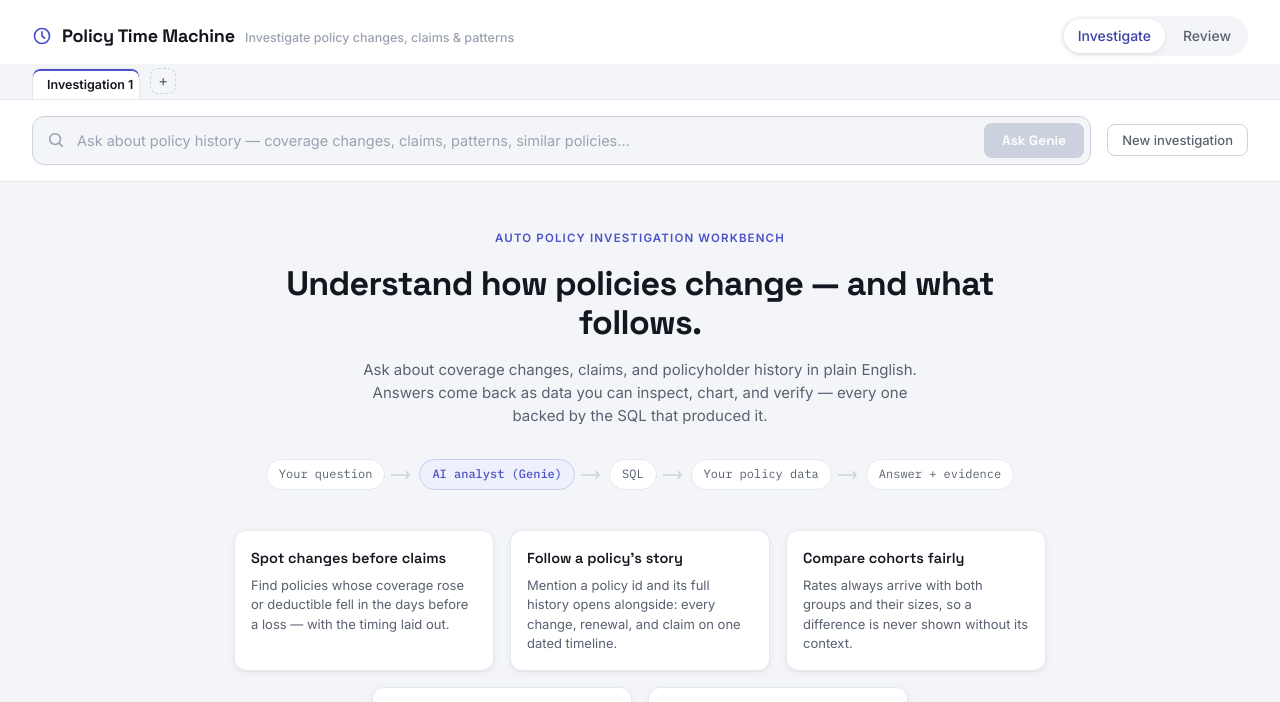
Test case: App smoke test (mock mode) › P-18492 fixture renders as grouped endorsement cards, a distinct claim card, and a severity badge
Replace the text in the field labelled "Ask about policy history" with "What changed on P-18492 in the last year?": (524, 140) 73,124 -> 976,157
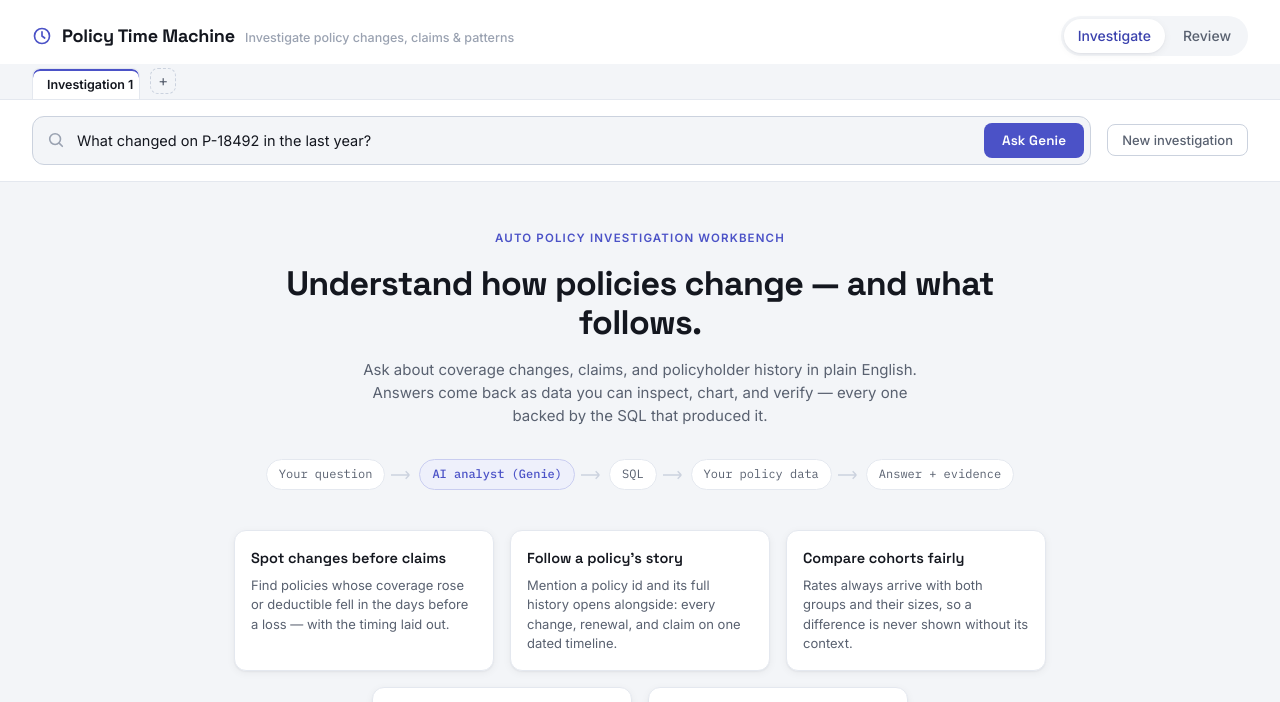
Submit the form named "Ask about policy history", box 32,116 -> 1091,165
(page scrolled)
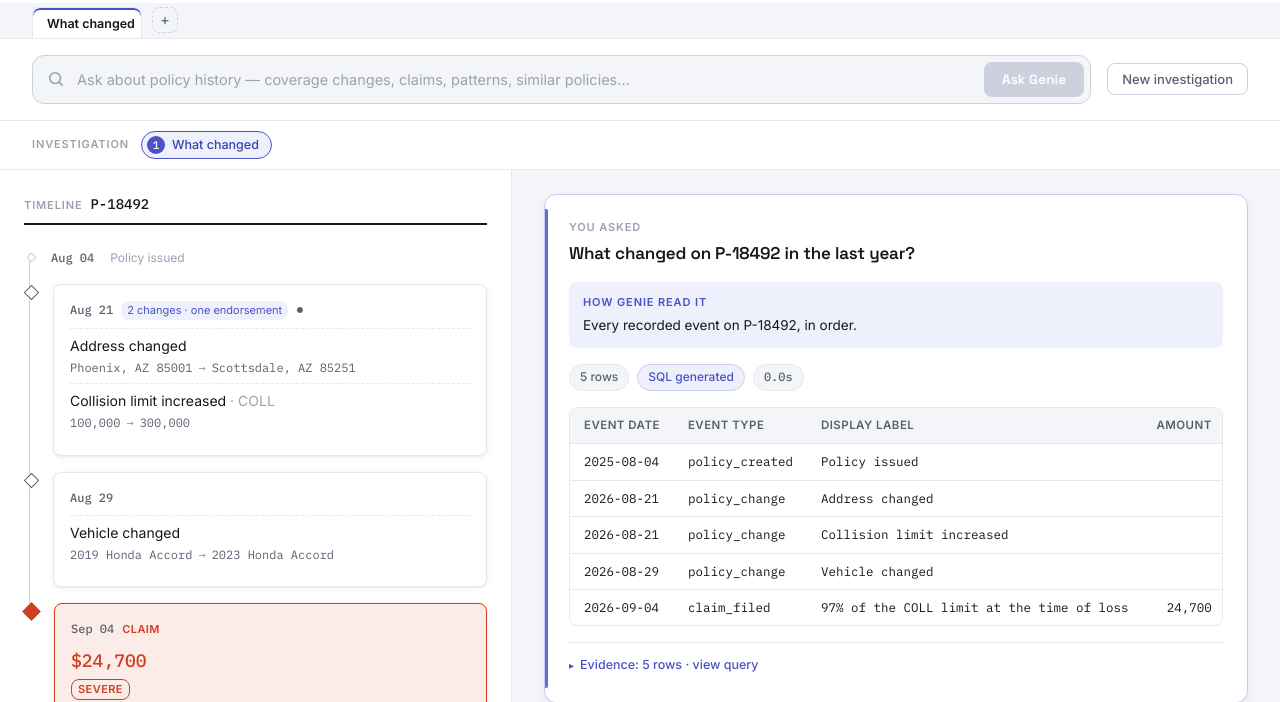
expect the text "P-18492" is shown: met, box 90,194 -> 149,215
expect the text "2 changes · one endorsement" is shown: met, box 121,301 -> 288,320
expect the text "$24,700" is shown: met, box 71,649 -> 147,672
